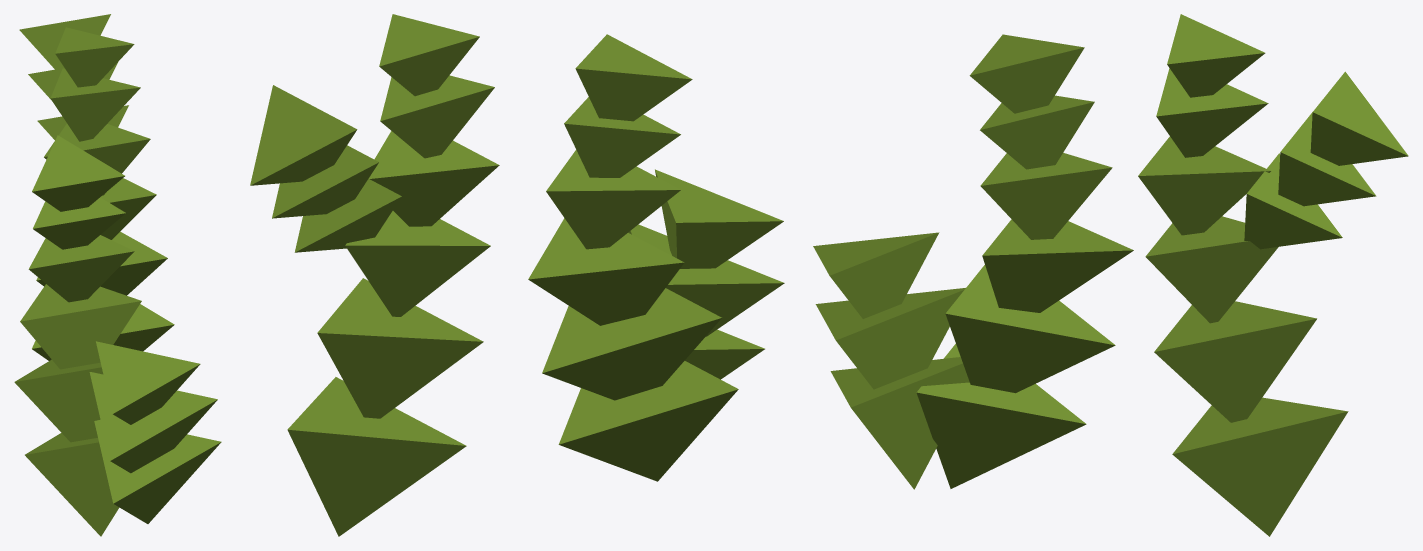
File: seaweed_2.fbx
3 renders of one model, left to right at view 1: azimuth 30°, elevation 25°; view 2: azimuth 150°, elevation 25°; view 3: azimuth 270°, elevation 25°, orthographic. The views are drawn at different scales.
Visible parts, largest first — view 1: Cone; view 2: Cone; view 3: Cone.
Boxes of the visible parts, left/top/right/bottom form: Cone: left=14, top=14, right=221, bottom=536; Cone: left=250, top=14, right=784, bottom=536; Cone: left=813, top=14, right=1408, bottom=536.
Bounding box in the file's own units: 452 × 751 × 805.
